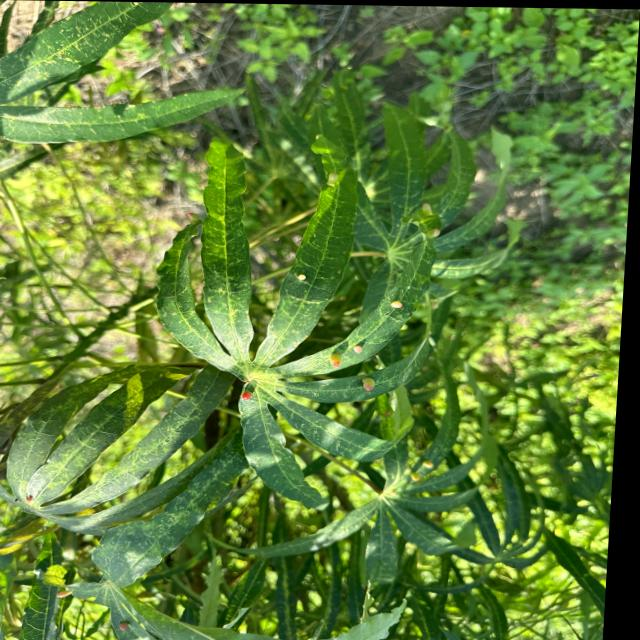Mosca: (290, 263, 325, 287), (320, 344, 347, 372), (355, 376, 385, 396), (350, 344, 373, 365), (240, 385, 261, 407), (386, 296, 410, 315)
